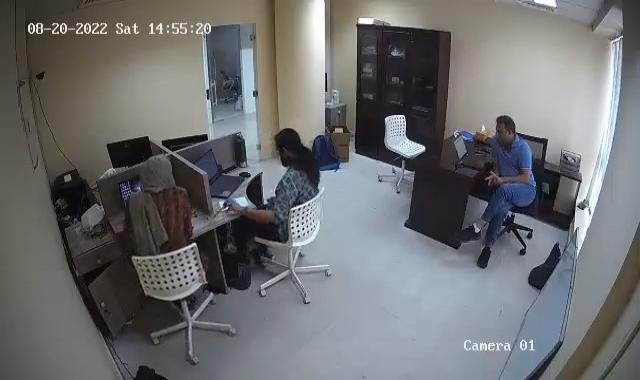no_hairnet: (138, 150, 175, 193), (491, 109, 522, 153), (272, 125, 304, 164)
